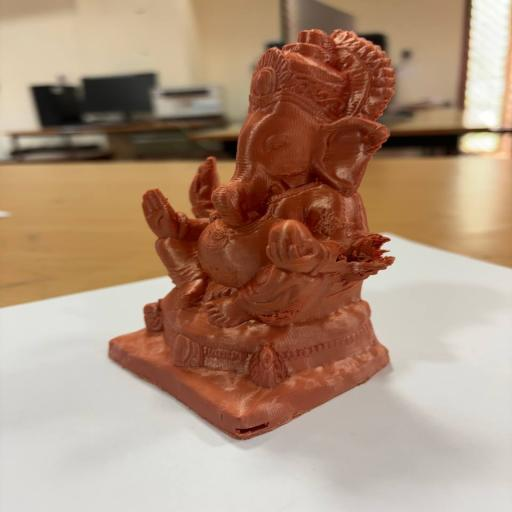cracks: (324, 234, 396, 284), (226, 402, 270, 440)
